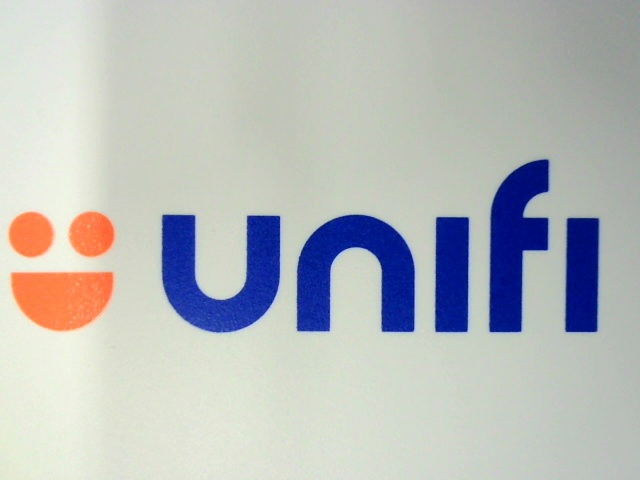BN_unifi: (1, 155, 601, 335)
